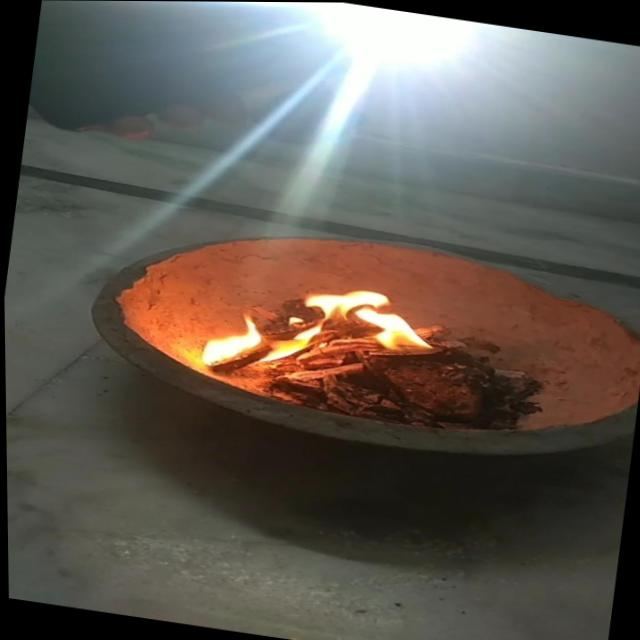fire: (288, 276, 449, 362), (190, 304, 282, 379)
